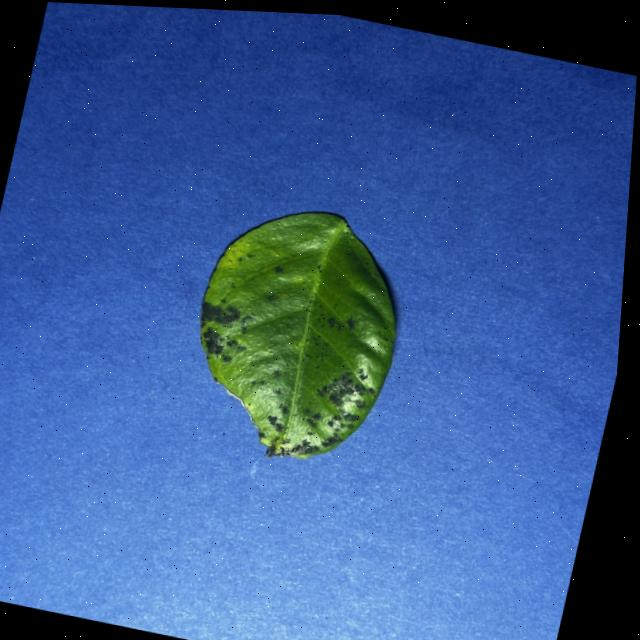sooty_mold: (199, 212, 394, 457)
